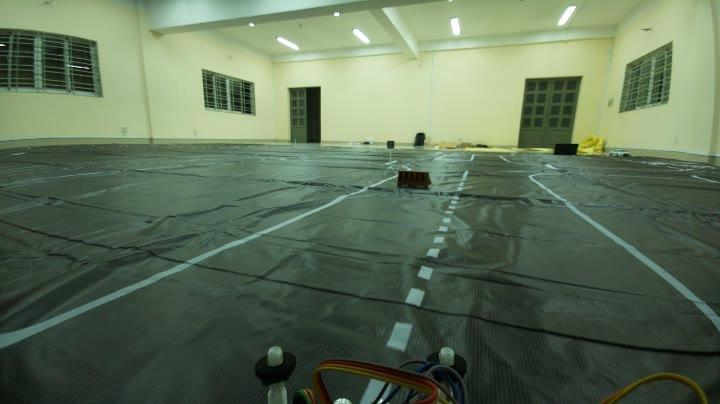roadblock: (395, 165, 437, 196)
